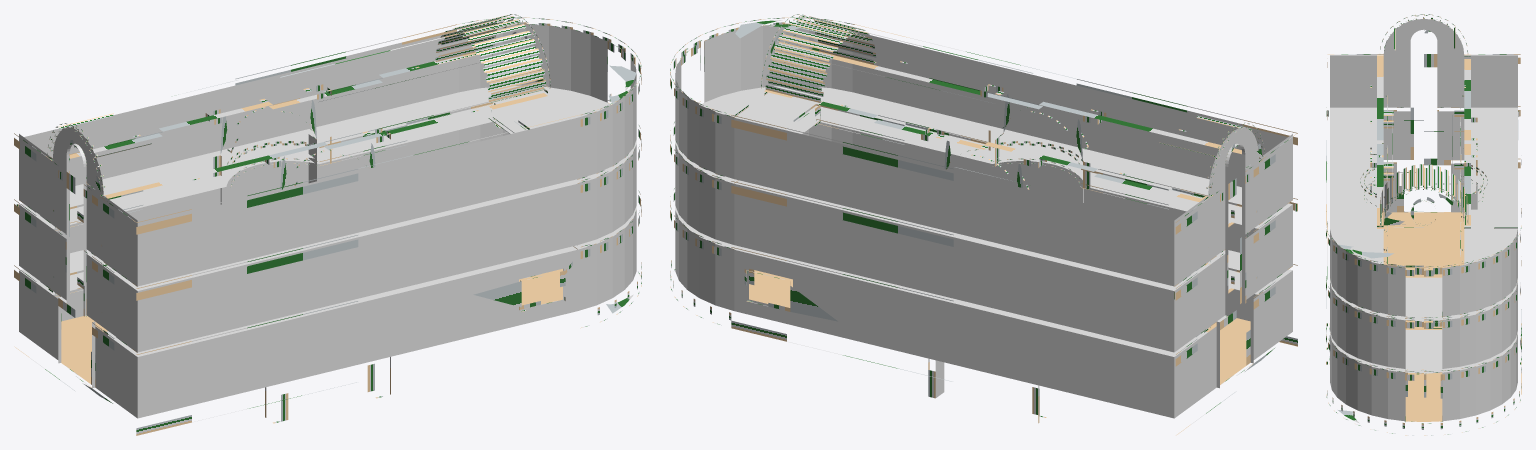
Rendered from BuildingLatest.fbx.
The picture shows the model from 3 angles, left to right: view 1: azimuth 30°, elevation 25°; view 2: azimuth 150°, elevation 25°; view 3: azimuth 270°, elevation 25°; orthographic projection. The views are drawn at different scales.
Parts seen in each view (by area): view 1: Building, BuildingRoof, Gate; view 2: Building, BuildingRoof, Gate; view 3: Building, BuildingRoof, WindowBack, Gate.
Part boxes in pixels (box(x1,y1,x2,y2)): Building: box(14, 14, 641, 435); BuildingRoof: box(59, 15, 535, 157); Gate: box(58, 144, 95, 387); Building: box(670, 14, 1297, 435); BuildingRoof: box(774, 15, 1251, 156); Gate: box(1220, 145, 1250, 384); Building: box(1326, 14, 1521, 435); BuildingRoof: box(1394, 17, 1455, 198); WindowBack: box(1405, 268, 1442, 423); Gate: box(1397, 30, 1450, 212).
Size of the model in its own units: 3751 by 2030 by 1460.
